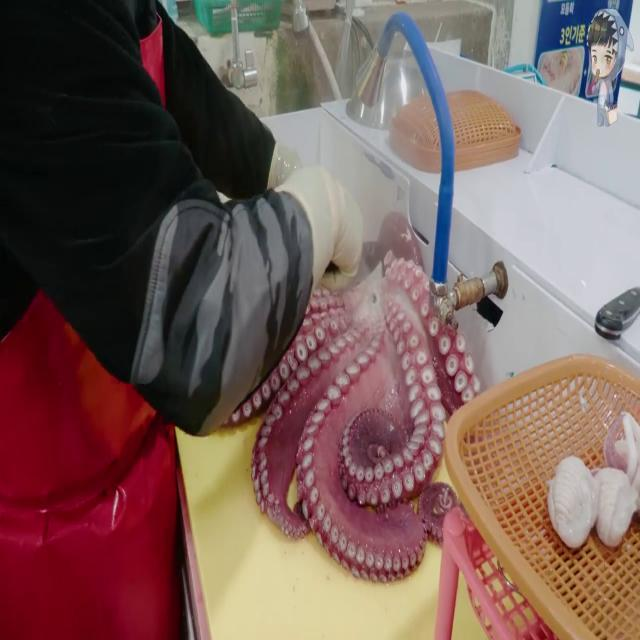octopus: (232, 247, 472, 588)
